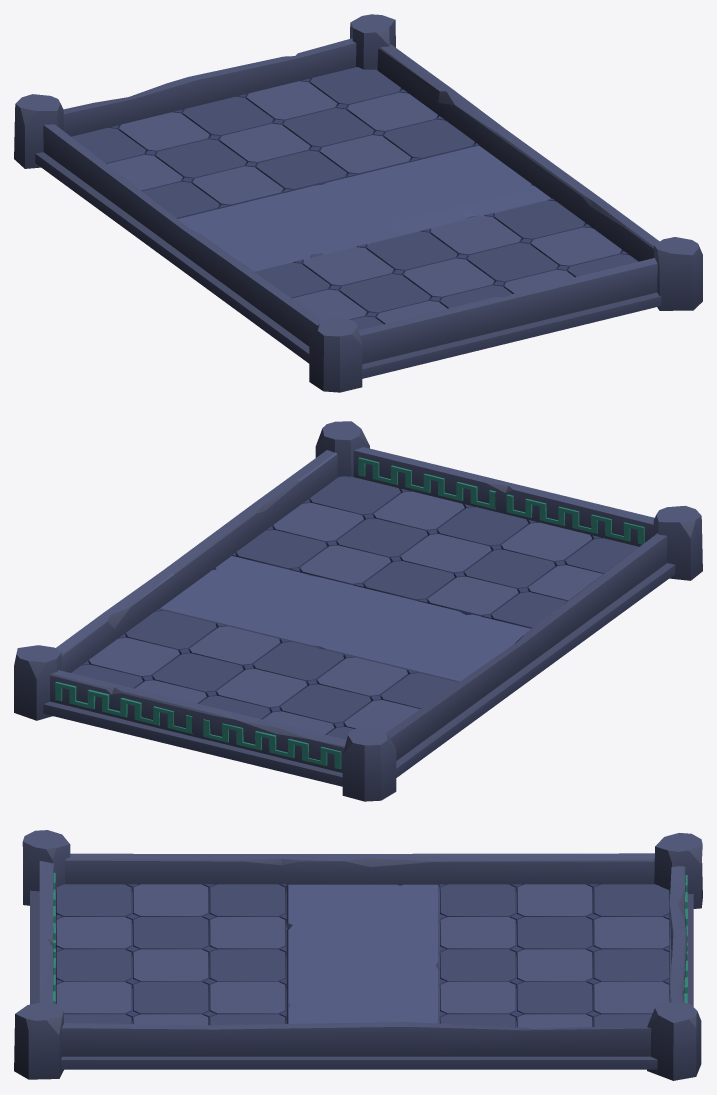
3 views of the same model, one above another, from view 1: azimuth 30°, elevation 25°; view 2: azimuth 150°, elevation 25°; view 3: azimuth 270°, elevation 25° (orthographic). The views are drawn at different scales.
Parts seen in each view (by area): view 1: Map06_Platform; view 2: Map06_Platform; view 3: Map06_Platform.
Part boxes in pixels (x1,y1,x2,y2): Map06_Platform: (14, 14, 702, 392); Map06_Platform: (14, 421, 702, 801); Map06_Platform: (14, 830, 702, 1080).
Bounding box in the file's own units: 11.93 × 1.68 × 17.94.
1 material, 1 textured.
